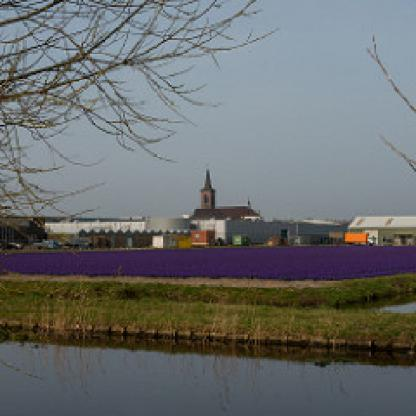TULIP: (26, 244, 395, 278)
